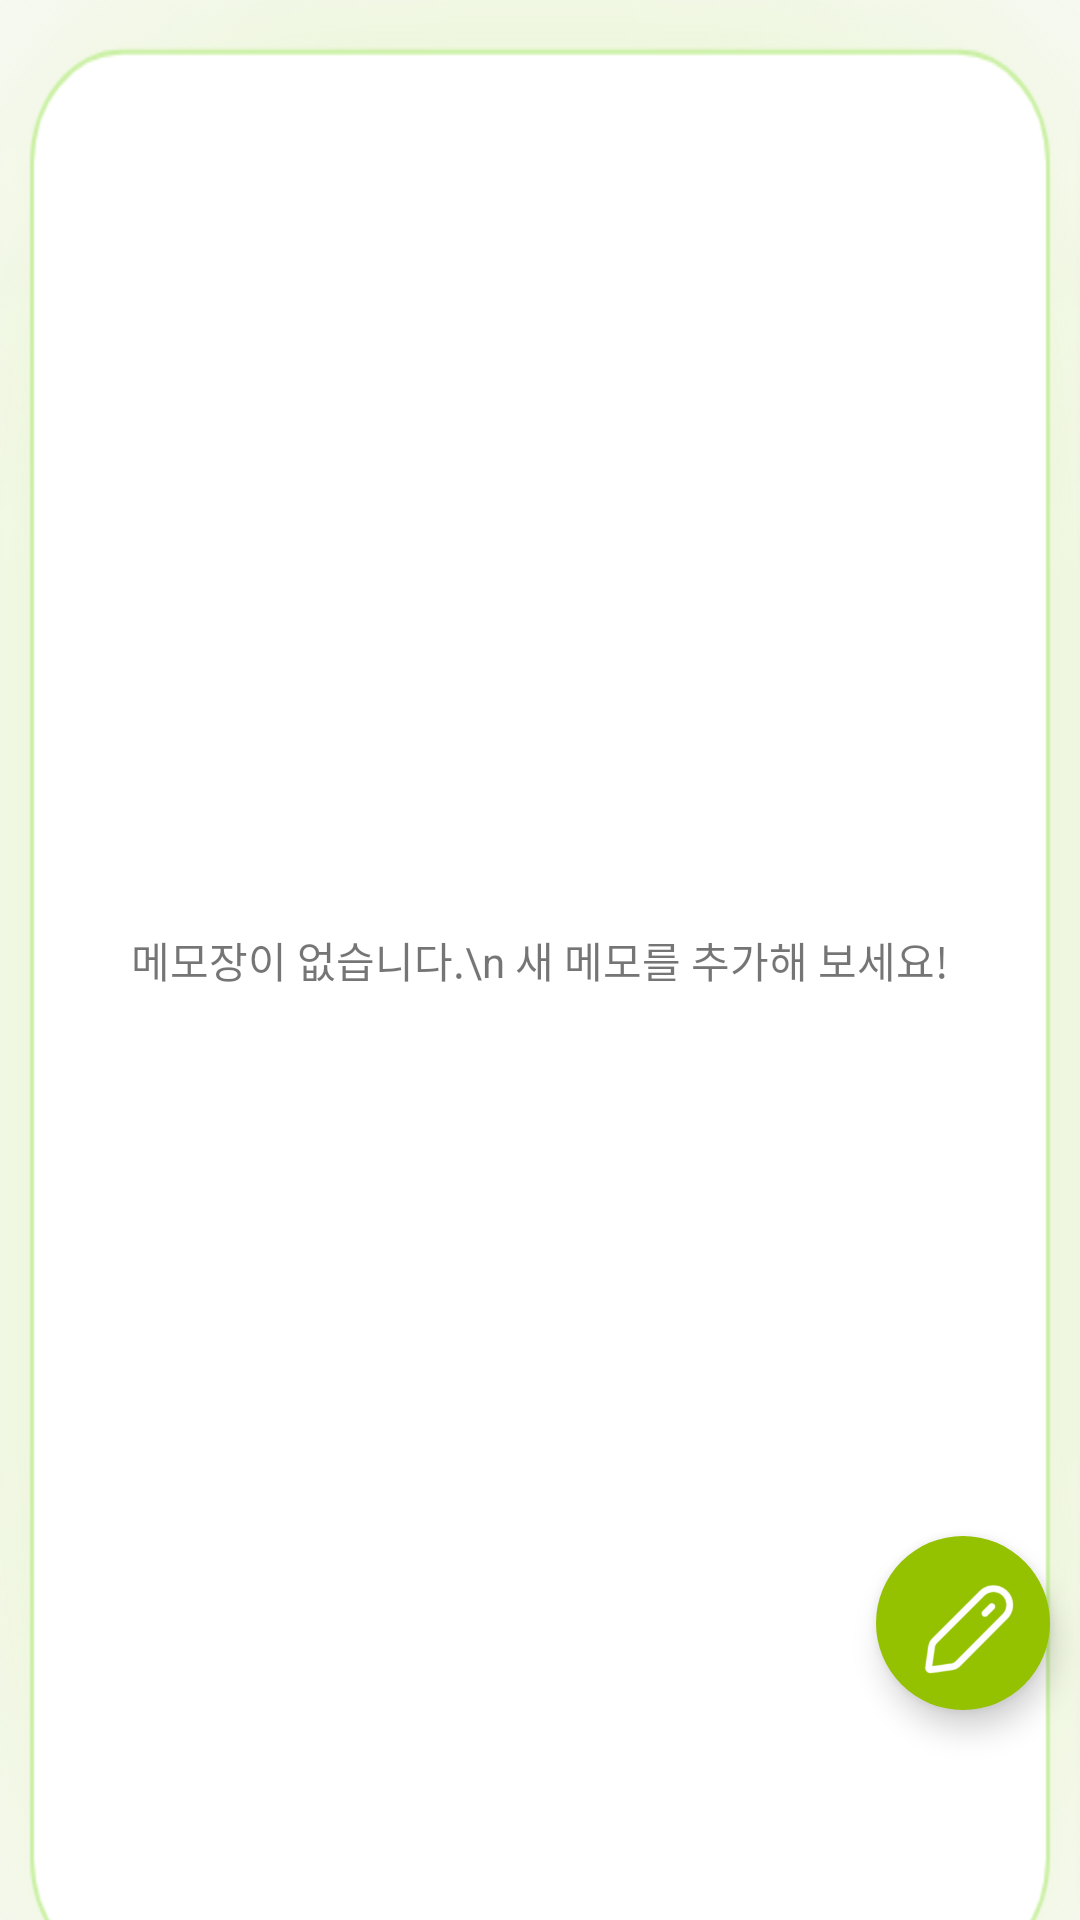

Locate icon controls on the screen. Image size 1080x1920, boxes as bbox(x1, y1, x2, y2).
add new memo: bbox(876, 1536, 1050, 1710)
